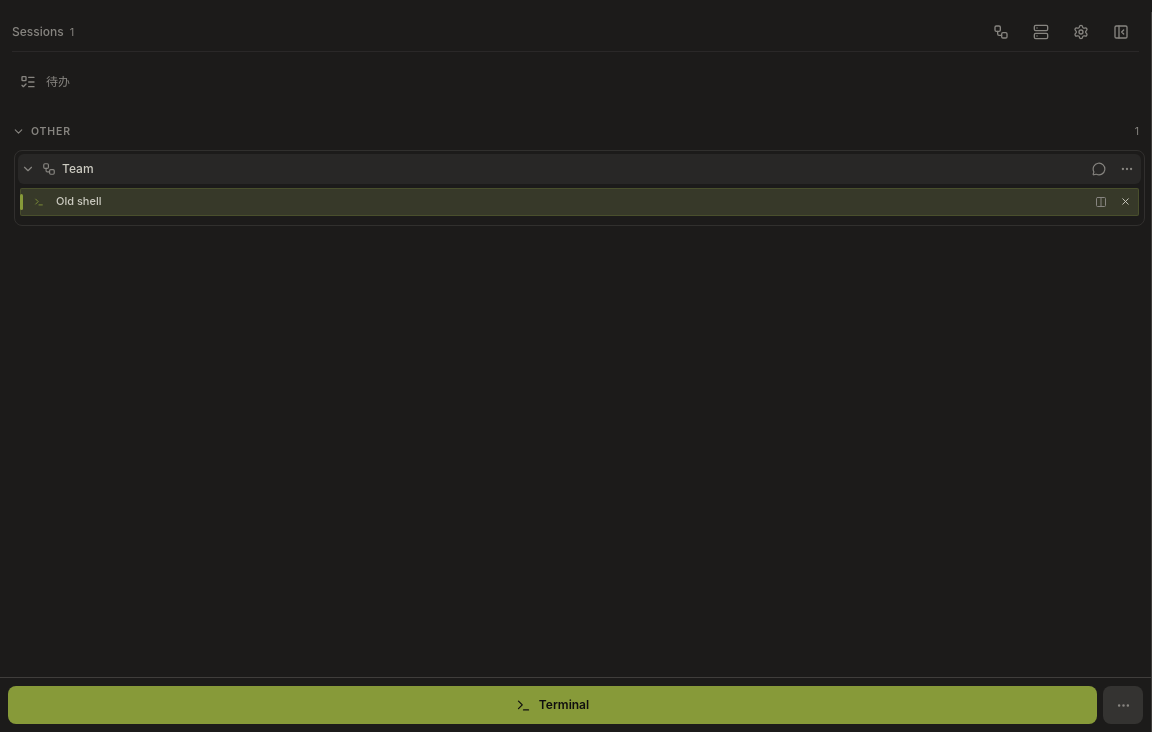
Test: pending creation during pinned navigation › revokes before awaiting message layout (create-first)
Check: the button named "成员与消息：Team" is shown, box [1085,154,1113,184]
Click the button with aria-label "New terminal" at (552, 705), box [8,686,1097,724]
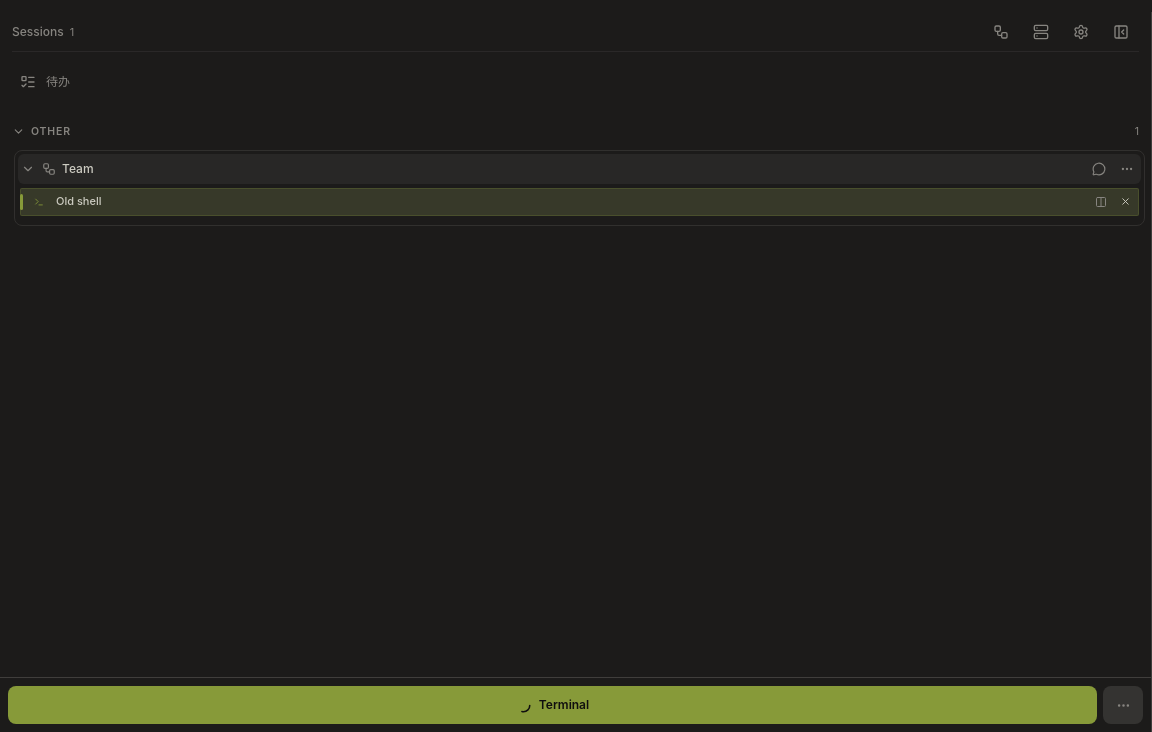
Click the button named "成员与消息：Team" at (1099, 169), box [1085,154,1113,184]
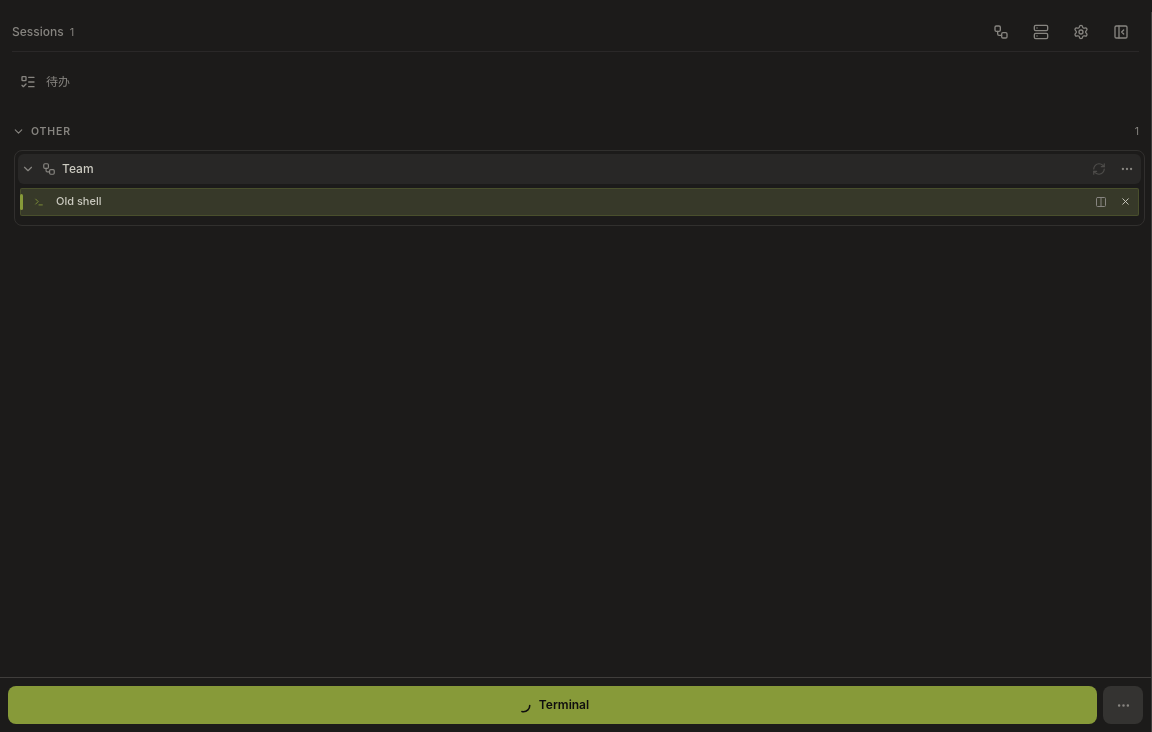
Click the button named "成员与消息：Team" at (1099, 169), box [1085,154,1113,184]
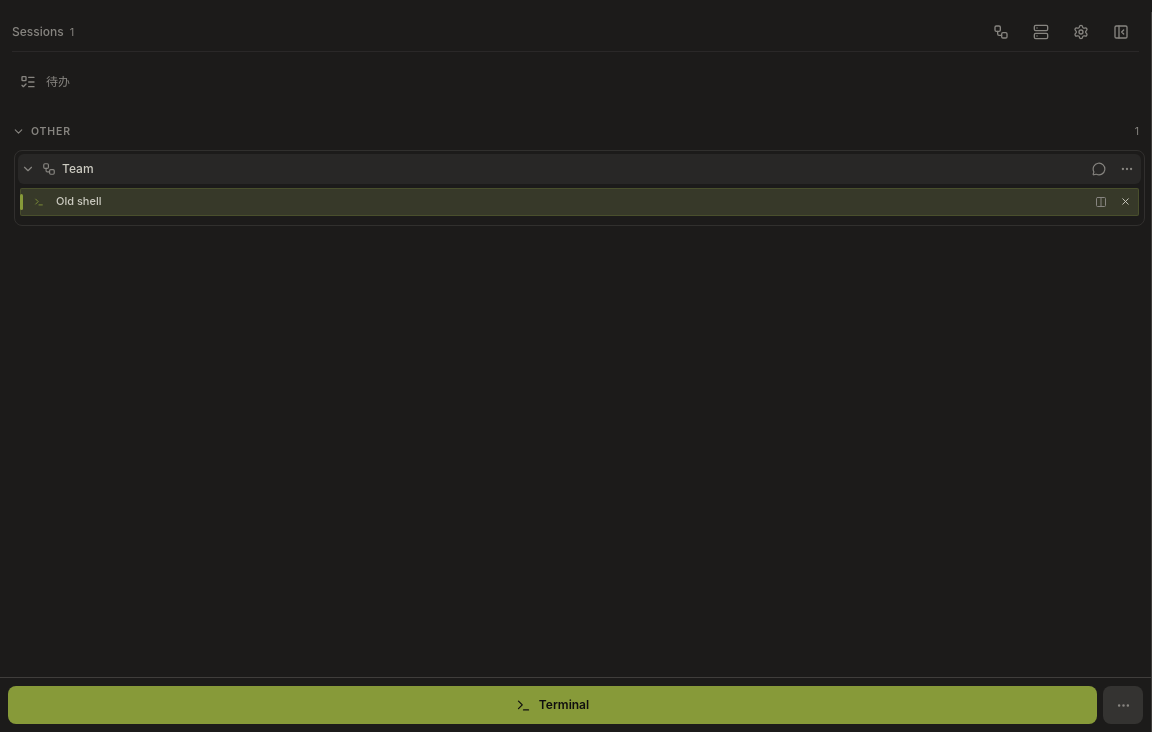
Check: the button with aria-label "New terminal" is enabled, box [8,686,1097,724]
